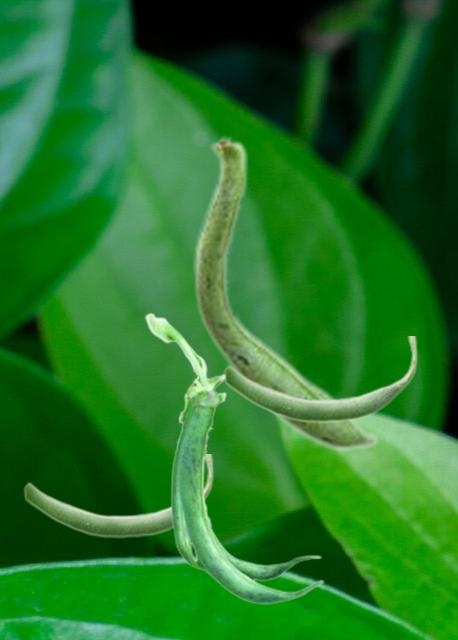french_bean: (193, 133, 378, 451), (144, 312, 323, 604), (223, 336, 417, 423), (23, 454, 213, 538)
